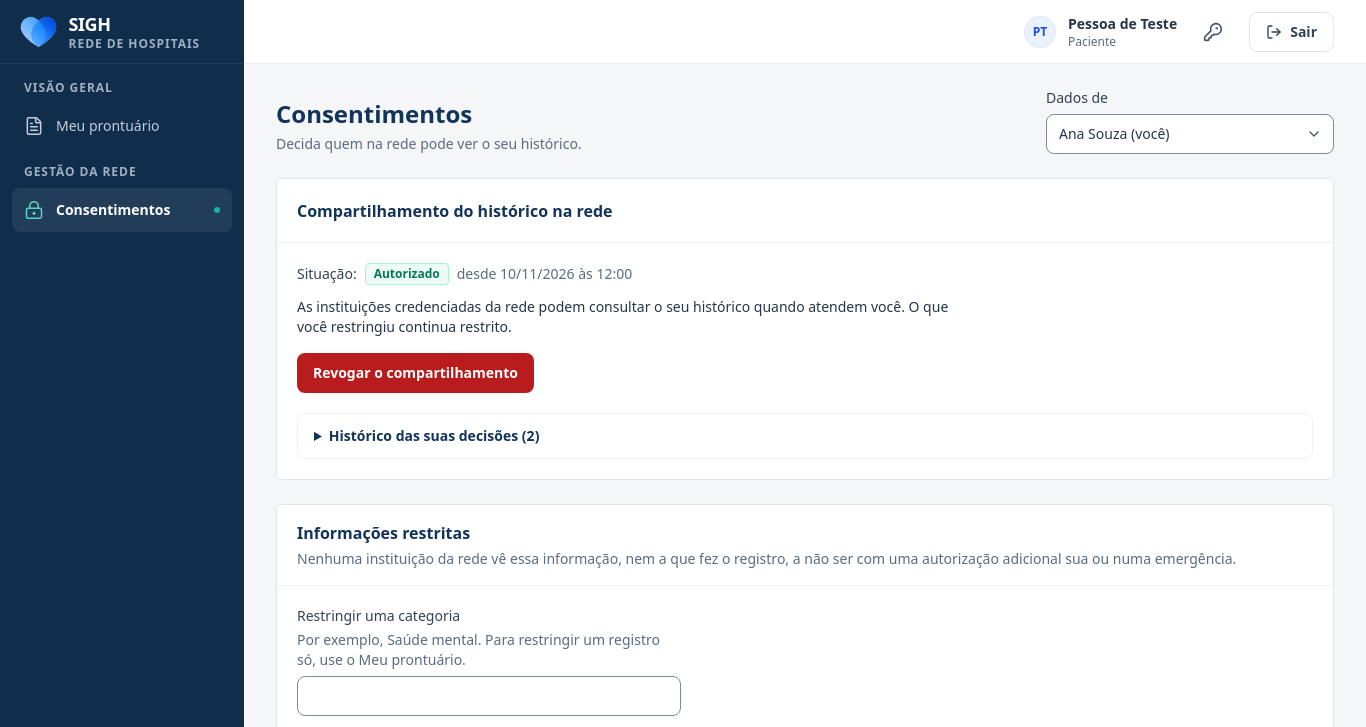
Test: FE-05: de quem são os dados › trocar de paciente descarta o que foi começado para o outro
This screenshot has width=1366, height=727.
Check: the heading "Consentimentos" is shown, box [276, 97, 472, 130]
Type "Saúde mental" into the field labelled "Restringir uma categoria".
click(489, 696); type("Saúde mental")  # box [297, 676, 681, 716]
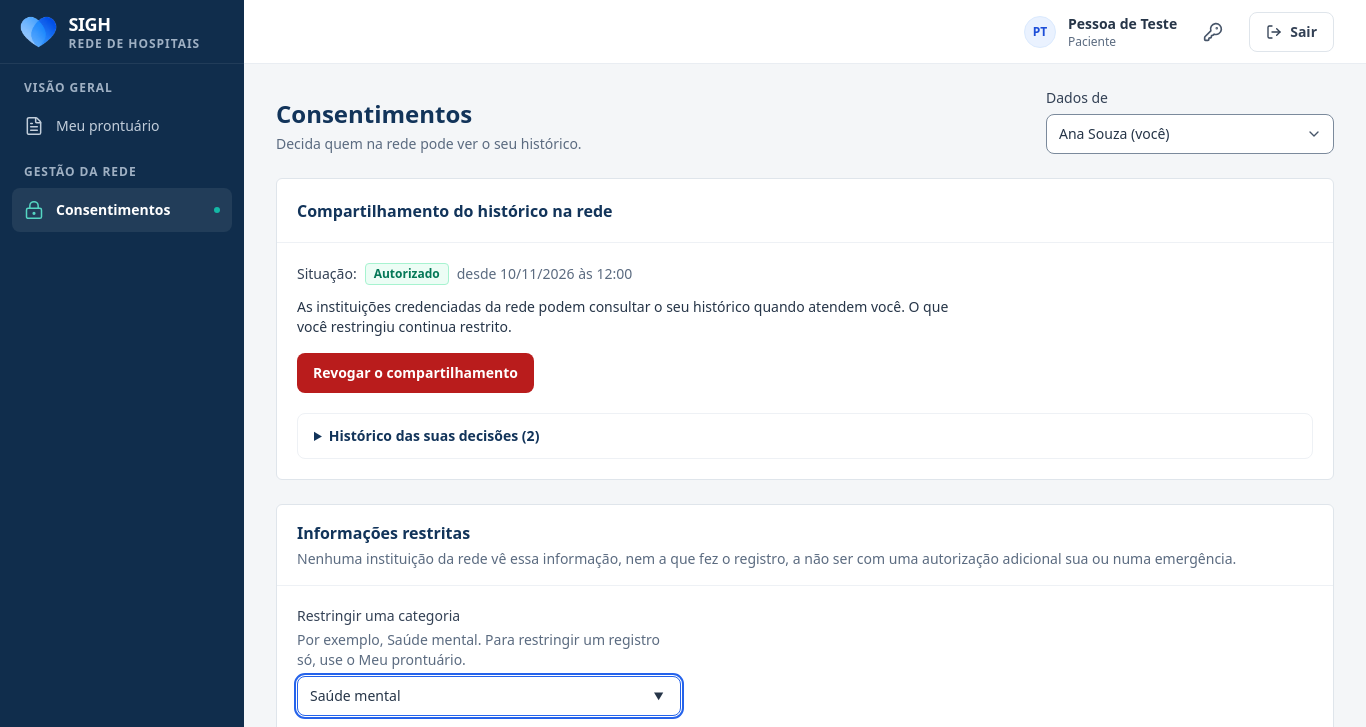
Select "Bia Souza (representado)" in the dropdown labelled "Dados de" at (1190, 134), box [1046, 114, 1334, 154]
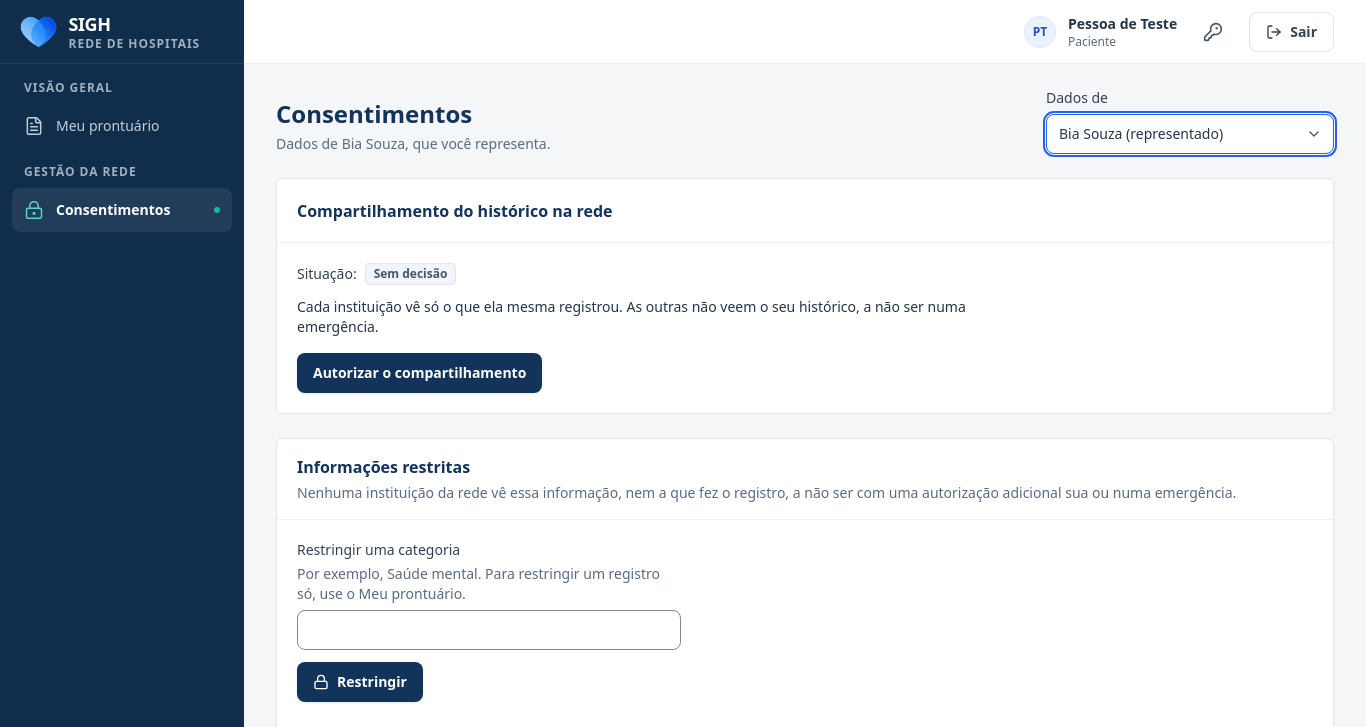
Check: the text "Sem decisão" is shown, box [365, 263, 456, 285]
Check: the field labelled "Restringir uma categoria" is empty, box [297, 610, 681, 650]
